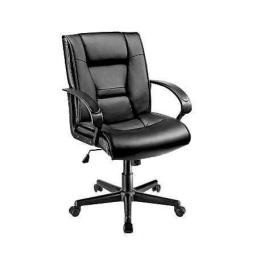Chair: (60, 34, 192, 231)
